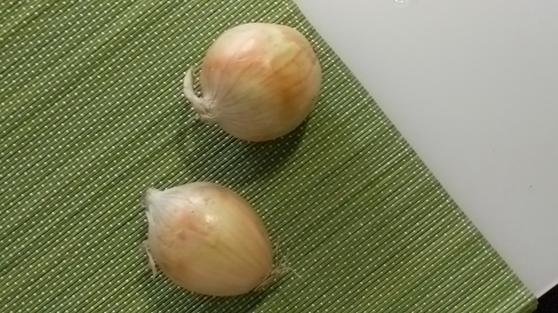onion: (182, 23, 325, 140), (142, 180, 282, 299)
